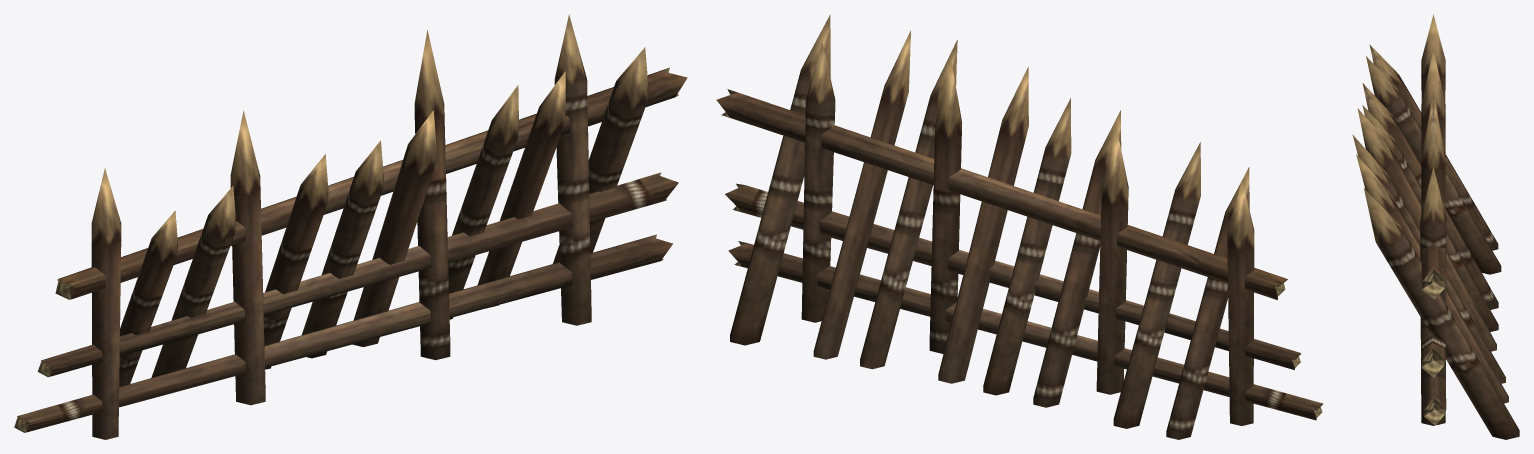
The model's file is weilan.FBX.
3 views of the same model, side by side, from view 1: azimuth 30°, elevation 25°; view 2: azimuth 150°, elevation 25°; view 3: azimuth 270°, elevation 25° (orthographic). The views are drawn at different scales.
Parts seen in each view (by area): view 1: s7_fight_zhalan_b; view 2: s7_fight_zhalan_b; view 3: s7_fight_zhalan_b.
Part boxes in pixels (box(x1,y1,x2,y2)): s7_fight_zhalan_b: box(14, 14, 687, 439); s7_fight_zhalan_b: box(716, 14, 1323, 439); s7_fight_zhalan_b: box(1352, 14, 1519, 439).
Size of the model in its own units: 3.04 by 1.42 by 0.807.
